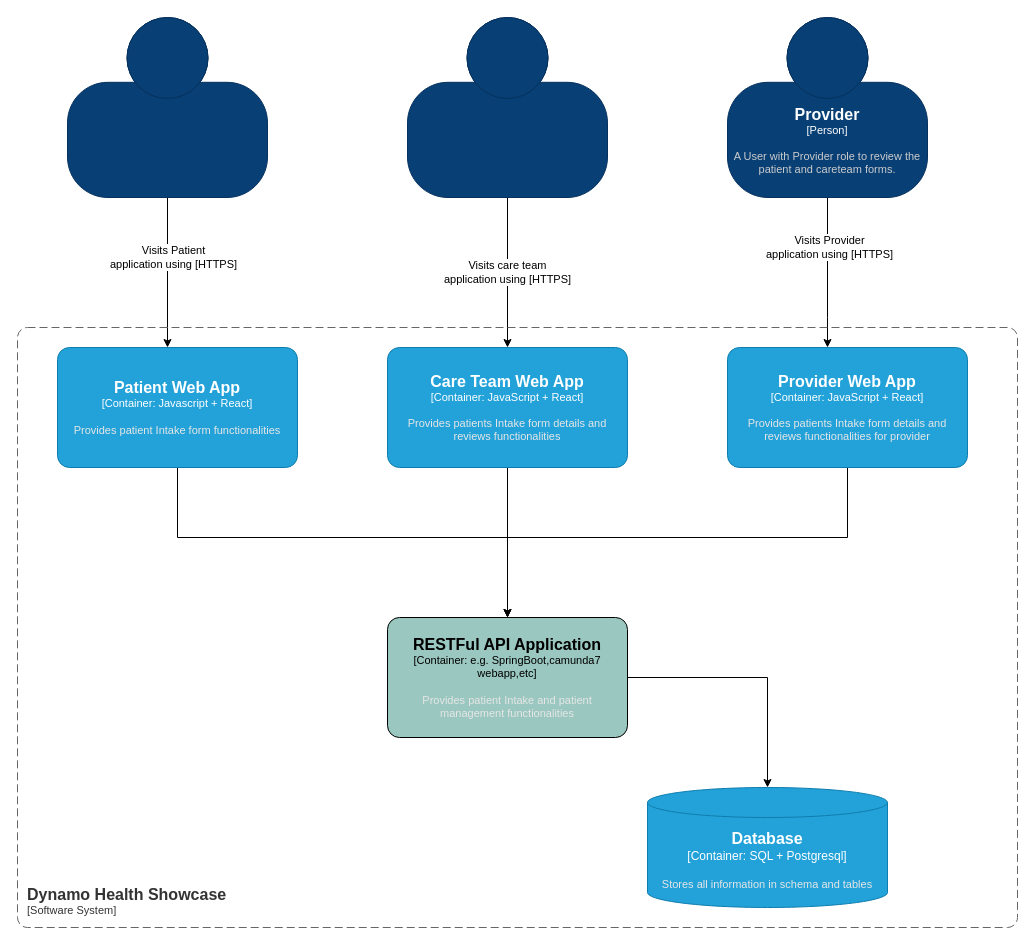
Some shapes in this 1035 by 945 pixel diagram are drawn without their labels. Here are the shapes that lost their labels. From the top down, the box of each, then its label:
(66, 16, 268, 198): Patient [Person] A User to create/update intake Form.
(406, 16, 608, 198): Care Team [Person] A User with Nurse role to review the patient forms.
